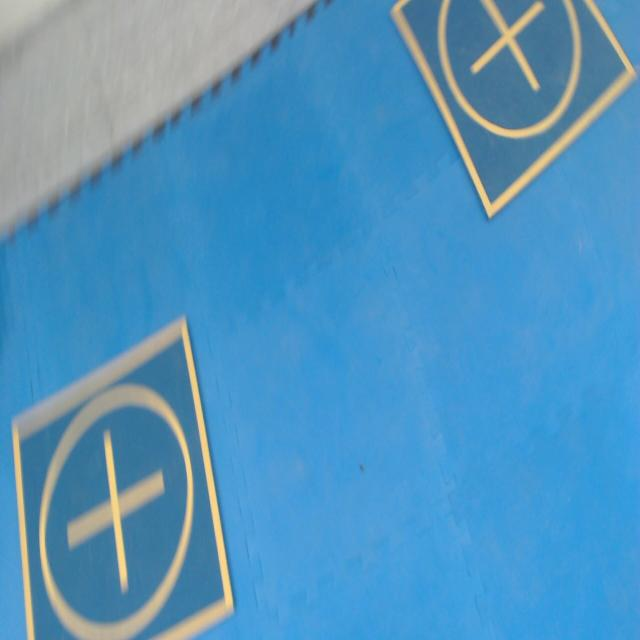base_pouso: (11, 313, 235, 639), (390, 0, 639, 221)
